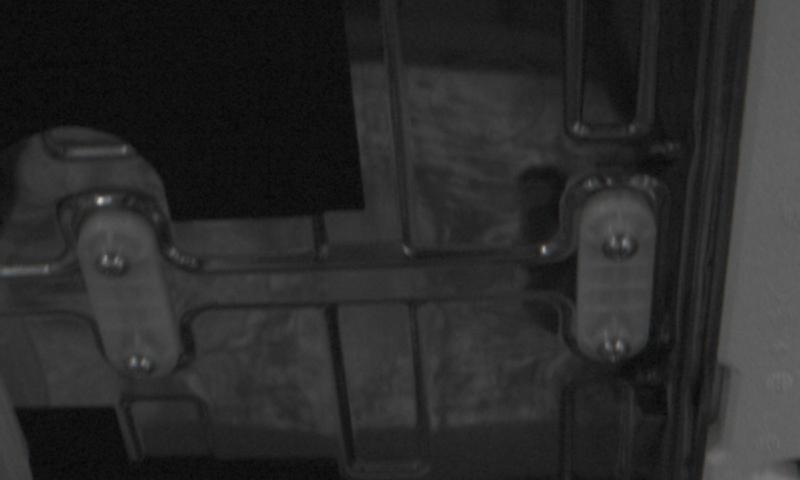vida-ok: (88, 242, 134, 286), (596, 227, 643, 270), (589, 331, 635, 370), (115, 343, 160, 382)
